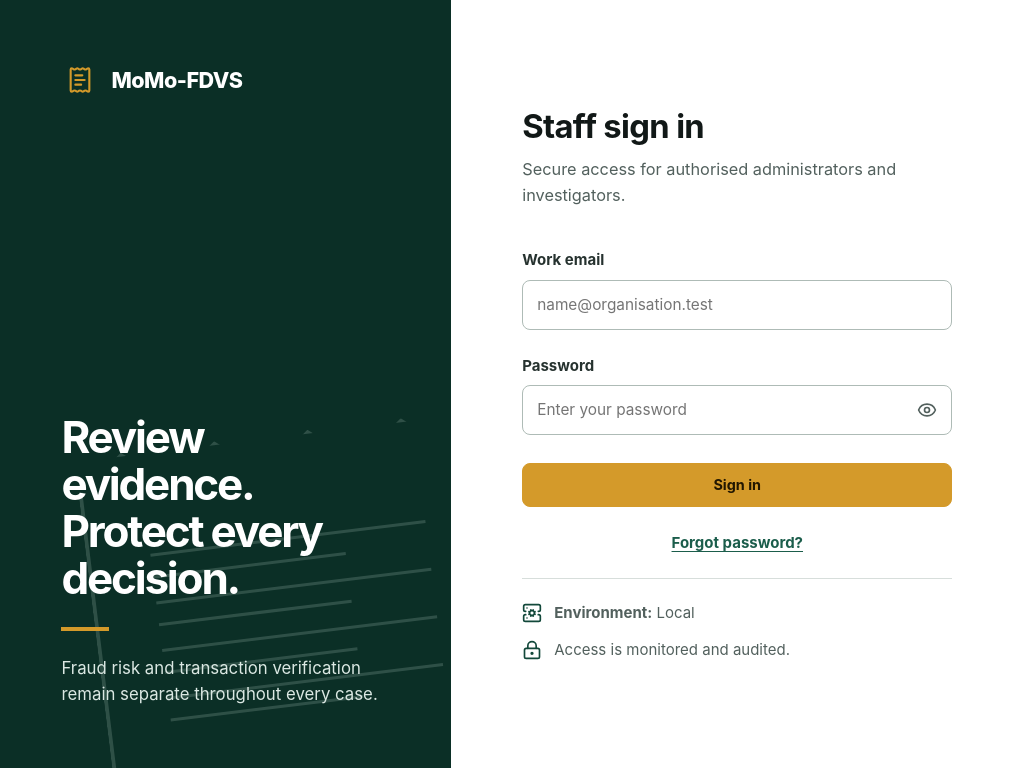
Test: LoginPage › has no public registration and announces form errors
Click the button "Sign in" at coordinates (737, 485), box [522,463,952,507]
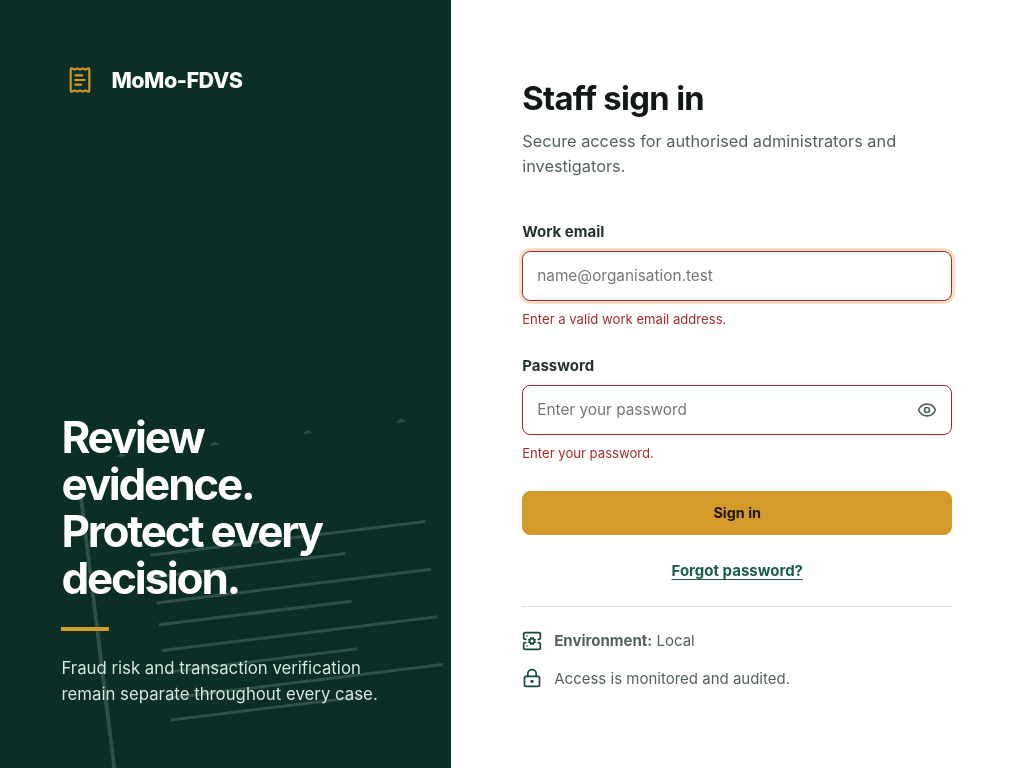
expect the text "Enter a valid work email address." is shown: met, box [522,311,726,327]
expect the text "Enter your password." is shown: met, box [522,445,654,461]
